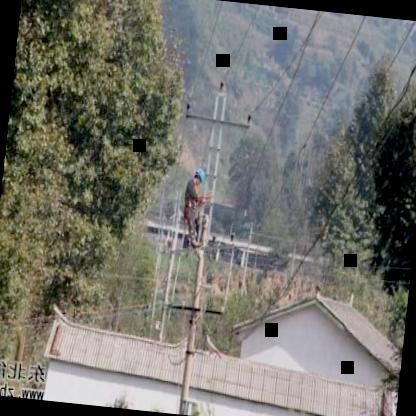helmet: (190, 163, 206, 187)
